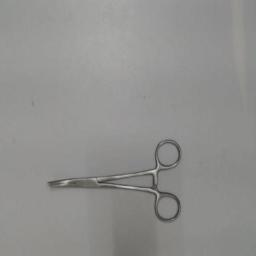Crile Artery Forceps: (40, 133, 186, 229)
